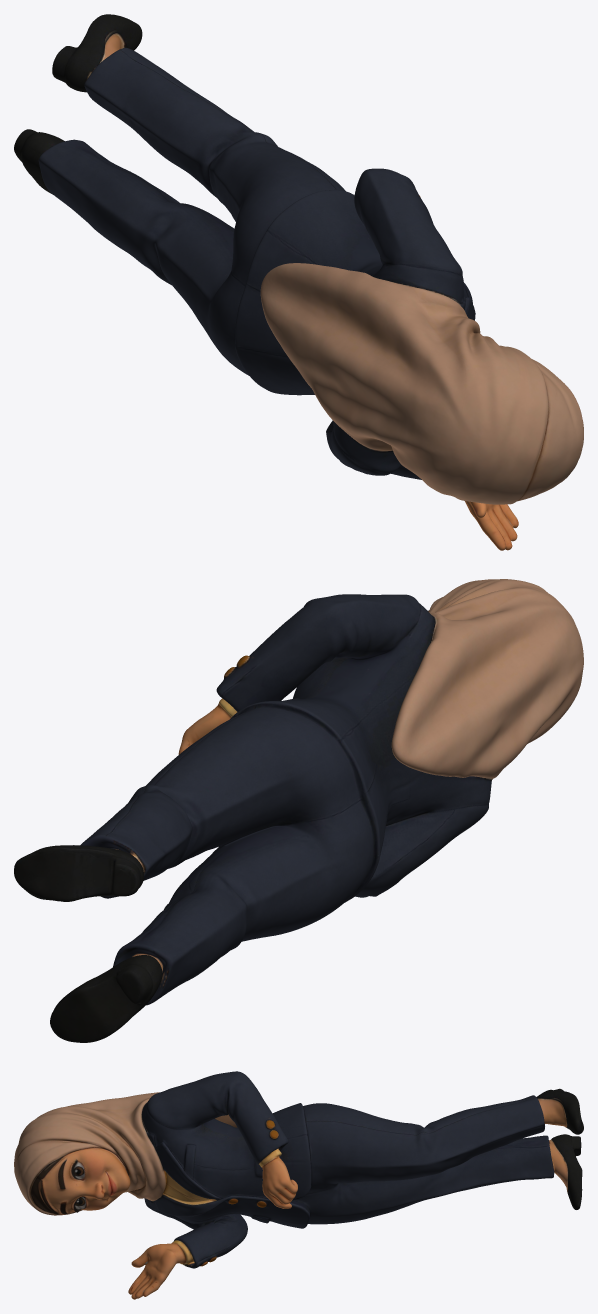
3 views of the same model, one above another, from view 1: azimuth 30°, elevation 25°; view 2: azimuth 150°, elevation 25°; view 3: azimuth 270°, elevation 25° (orthographic). The views are drawn at different scales.
Visible parts, largest first — view 1: tripo_node_96ad65b4; view 2: tripo_node_96ad65b4; view 3: tripo_node_96ad65b4.
Part boxes in pixels (<box>): tripo_node_96ad65b4: <box>14,14,583,550</box>; tripo_node_96ad65b4: <box>14,579,583,1042</box>; tripo_node_96ad65b4: <box>14,1071,583,1299</box>.
Size of the model in its own units: 0.2678 by 0.4066 by 0.9998.
1 material, 1 textured.
